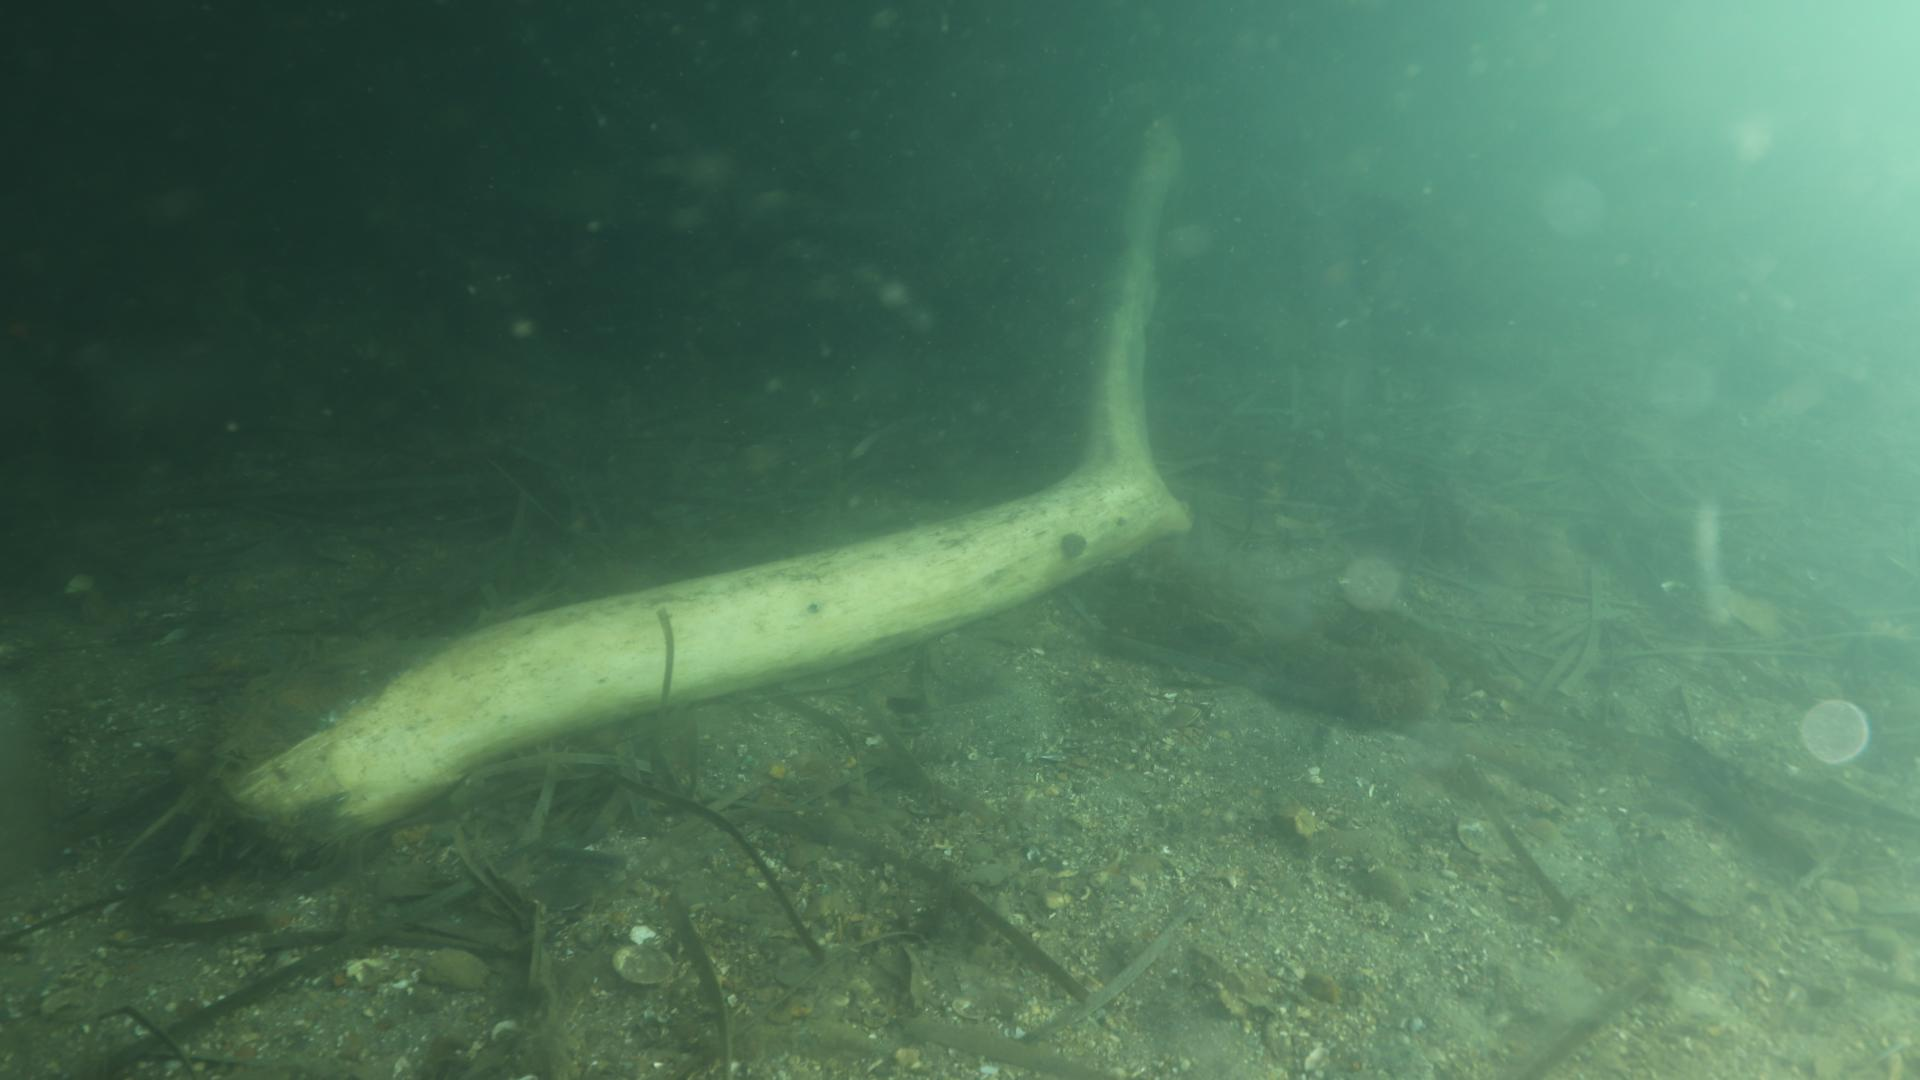wood: (222, 100, 1215, 873)
